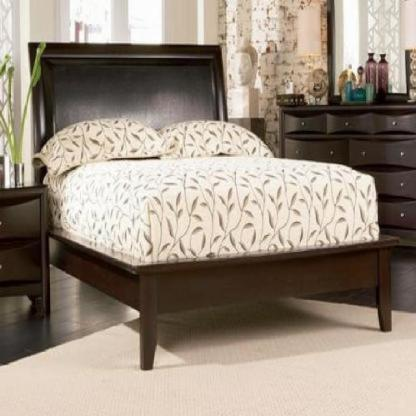Bed: (16, 33, 404, 380)
